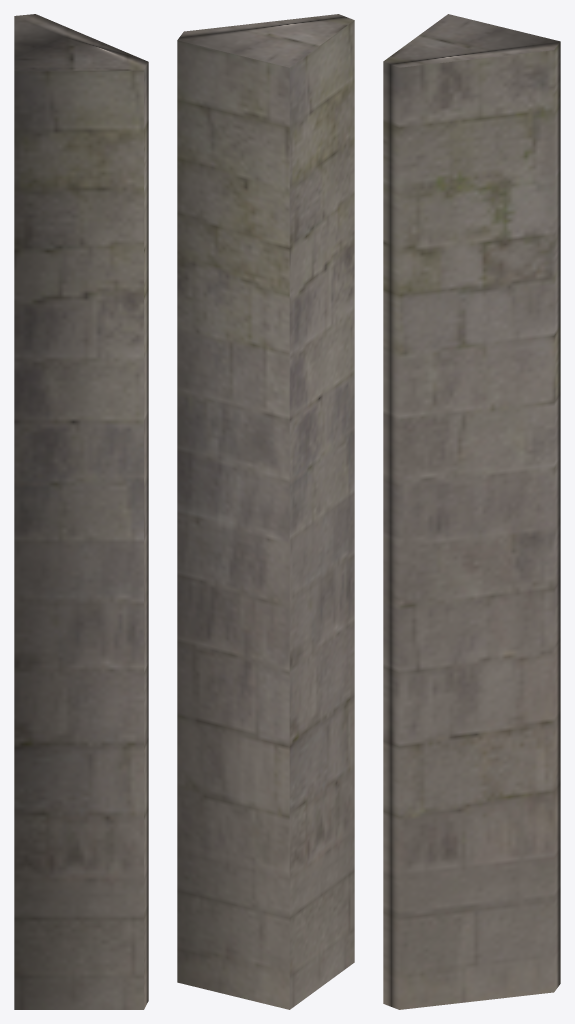
The model's file is towerblock_inside_edge.glb.
The picture shows the model from 3 angles, left to right: view 1: azimuth 90°, elevation 25°; view 2: azimuth 150°, elevation 25°; view 3: azimuth 330°, elevation 25°; orthographic projection.
Parts seen in each view (by area): view 1: towerblock_inside_edge; view 2: towerblock_inside_edge; view 3: towerblock_inside_edge.
Part boxes in pixels (x1,y1,x2,y2): towerblock_inside_edge: (14, 14, 148, 1009); towerblock_inside_edge: (177, 14, 354, 1009); towerblock_inside_edge: (383, 14, 560, 1009).
Size of the model in its own units: 1.04 by 8 by 1.04.
1 material, 1 textured.
